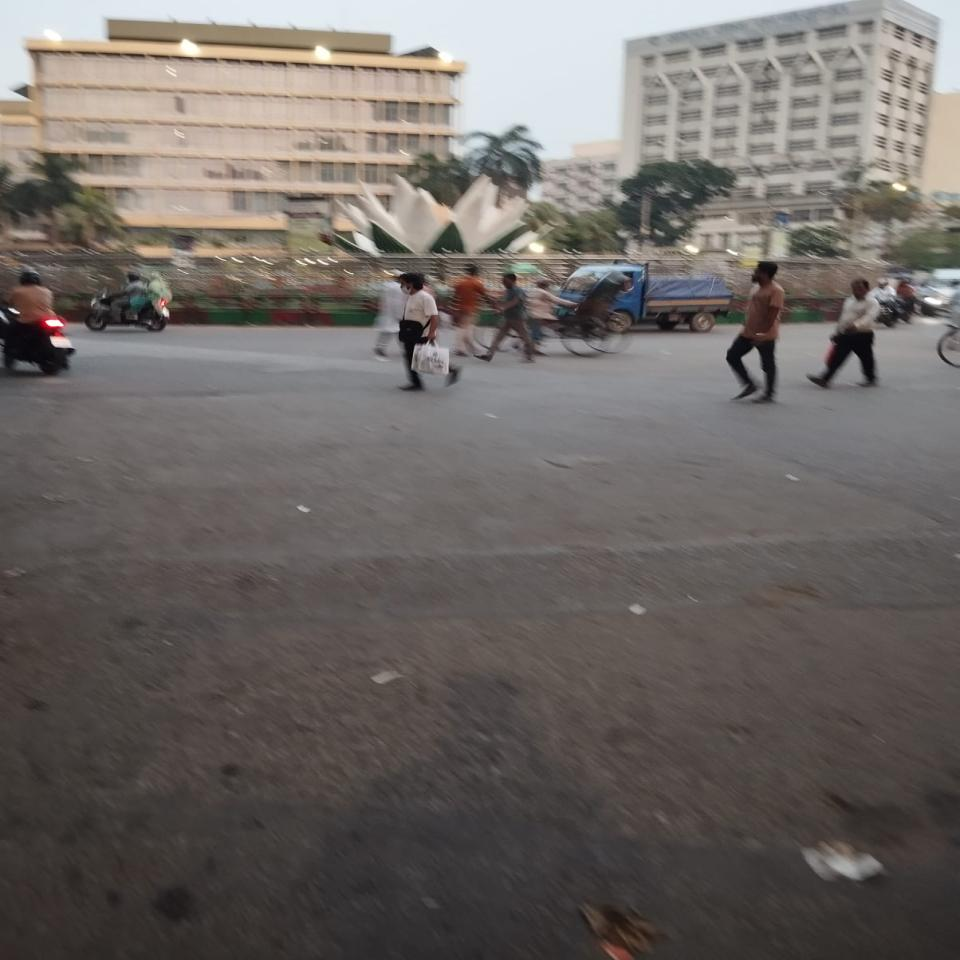person: (726, 262, 786, 402), (807, 278, 880, 389), (398, 272, 459, 392), (478, 272, 535, 363), (453, 264, 496, 356)
